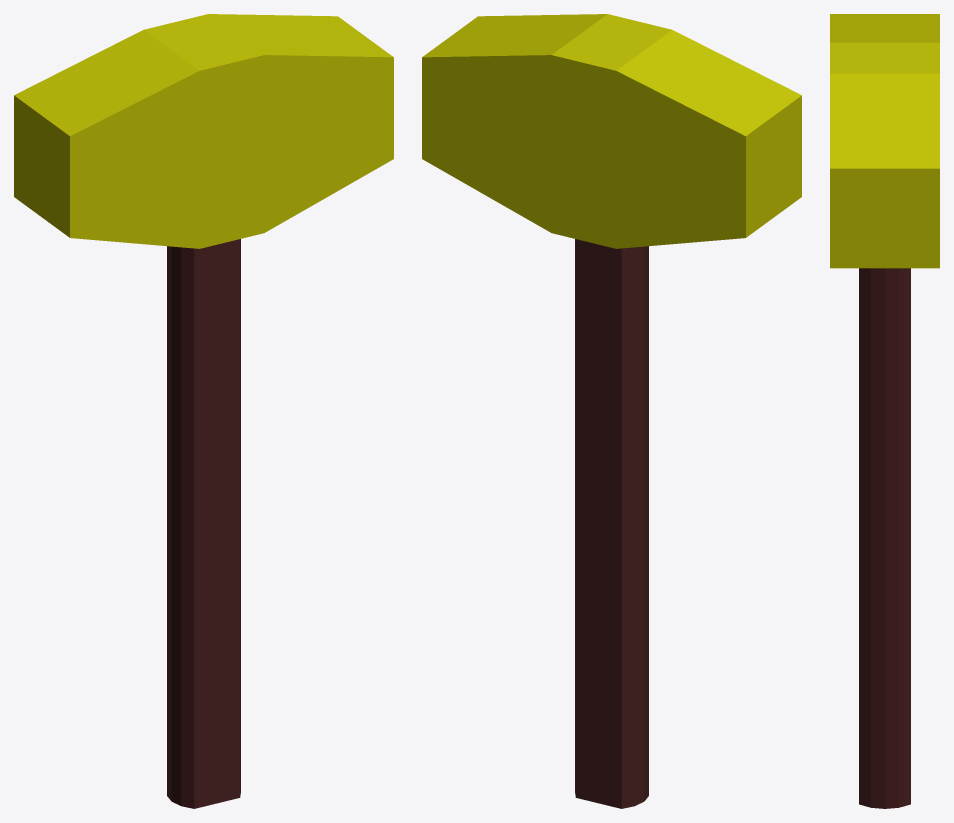
The model's file is mlotek.FBX.
The picture shows the model from 3 angles, left to right: view 1: azimuth 30°, elevation 25°; view 2: azimuth 150°, elevation 25°; view 3: azimuth 270°, elevation 25°; orthographic projection. The views are drawn at different scales.
Parts seen in each view (by area): view 1: Box001; view 2: Box001; view 3: Box001.
Boxes of the visible parts, bbox=[...] form: Box001: bbox=[14, 14, 393, 808]; Box001: bbox=[422, 14, 801, 808]; Box001: bbox=[830, 14, 939, 808].
Size of the model in its own units: 15.51 by 34.39 by 4.65.
